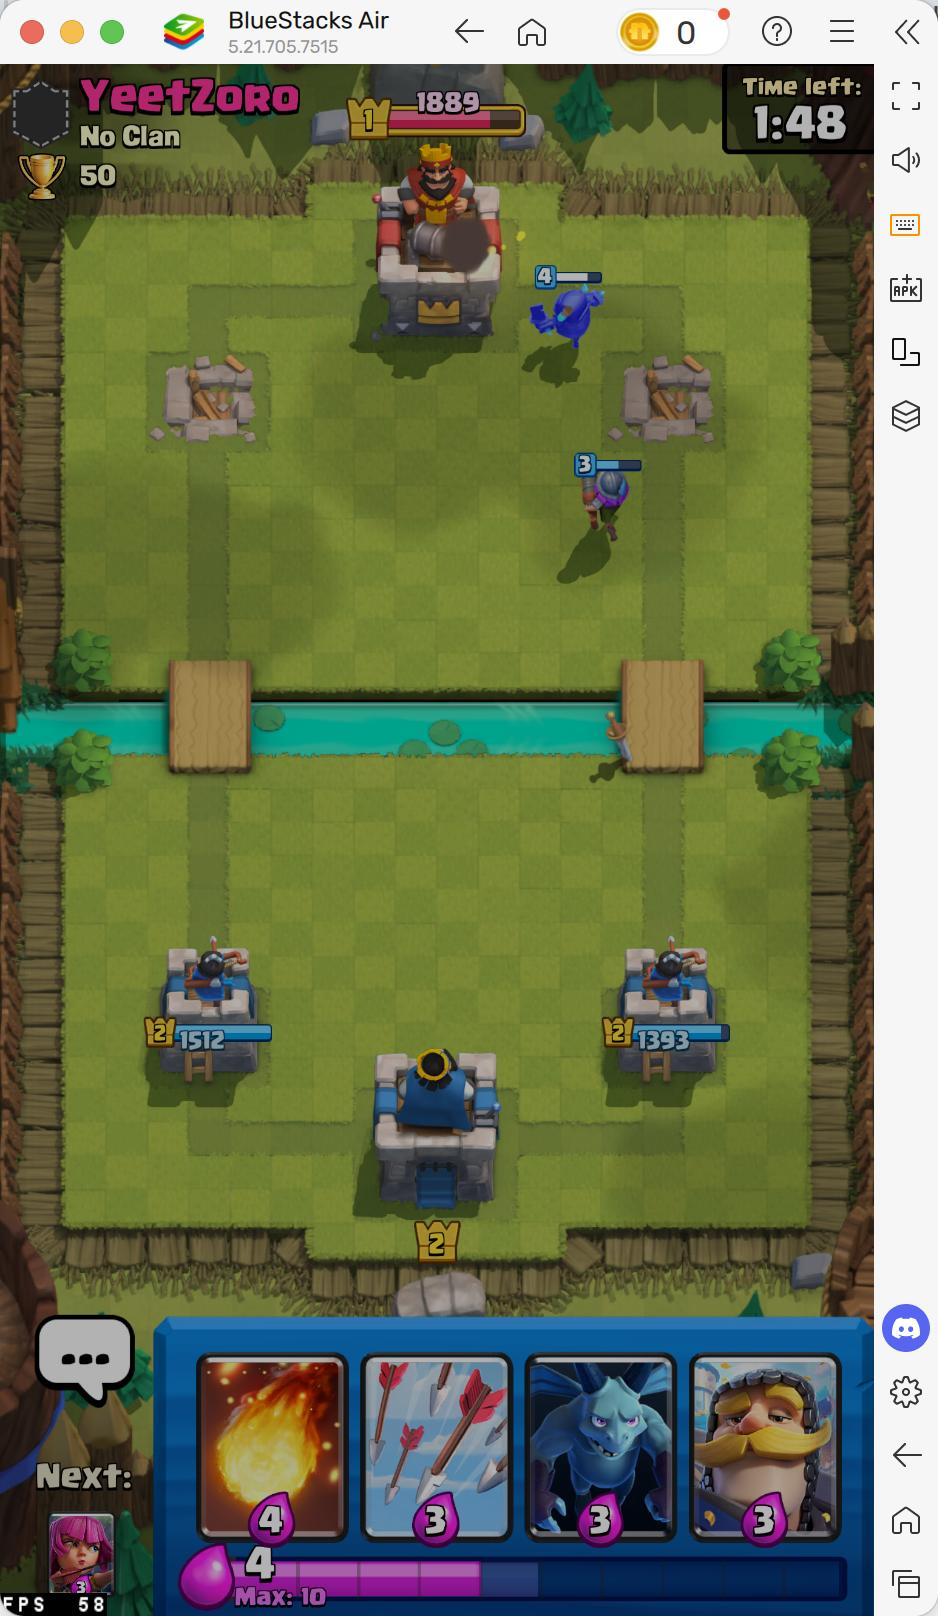1: (750, 103, 770, 146), (414, 89, 428, 115), (179, 1029, 190, 1051), (636, 1029, 648, 1051), (201, 1029, 211, 1051)
2: (209, 1029, 226, 1052)
3: (583, 1502, 619, 1540), (420, 1501, 452, 1541), (749, 1499, 777, 1540), (73, 1577, 89, 1600), (674, 1029, 690, 1052), (645, 1029, 661, 1051)
4: (240, 1539, 281, 1588), (784, 102, 816, 145), (253, 1500, 287, 1539)
5: (188, 1029, 202, 1052)
9: (461, 89, 481, 115), (659, 1029, 677, 1052)
Enemy Tower: (815, 102, 851, 143), (443, 89, 465, 116), (425, 89, 446, 115)
Friendly Tower: (153, 942, 267, 1079), (614, 943, 721, 1079)
